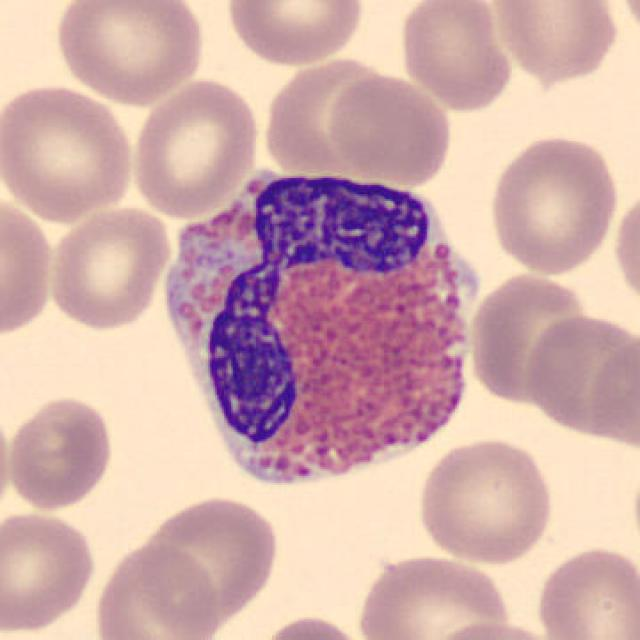Eosinophil: (149, 146, 496, 506)
RBC: (484, 130, 622, 277), (135, 492, 283, 629), (0, 79, 139, 224), (128, 74, 263, 220), (414, 434, 556, 566), (50, 0, 210, 108), (44, 203, 174, 333), (521, 309, 638, 446), (467, 272, 592, 398), (325, 70, 455, 187), (352, 550, 514, 640), (3, 391, 118, 513), (397, 0, 518, 113), (90, 537, 222, 640), (0, 506, 100, 636), (487, 0, 624, 85), (532, 541, 638, 640), (220, 0, 368, 69), (0, 190, 57, 344), (610, 183, 640, 312), (250, 612, 370, 640), (427, 619, 558, 640), (0, 398, 14, 526), (608, 0, 640, 46)
